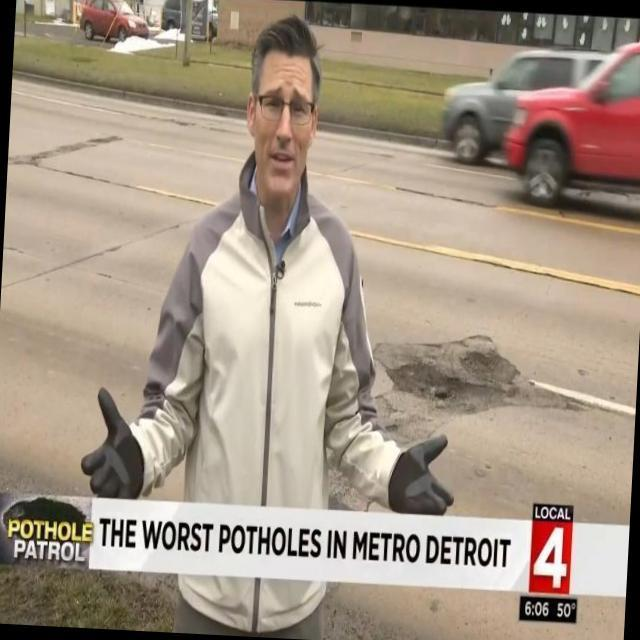Pothole: (375, 347, 560, 404)
